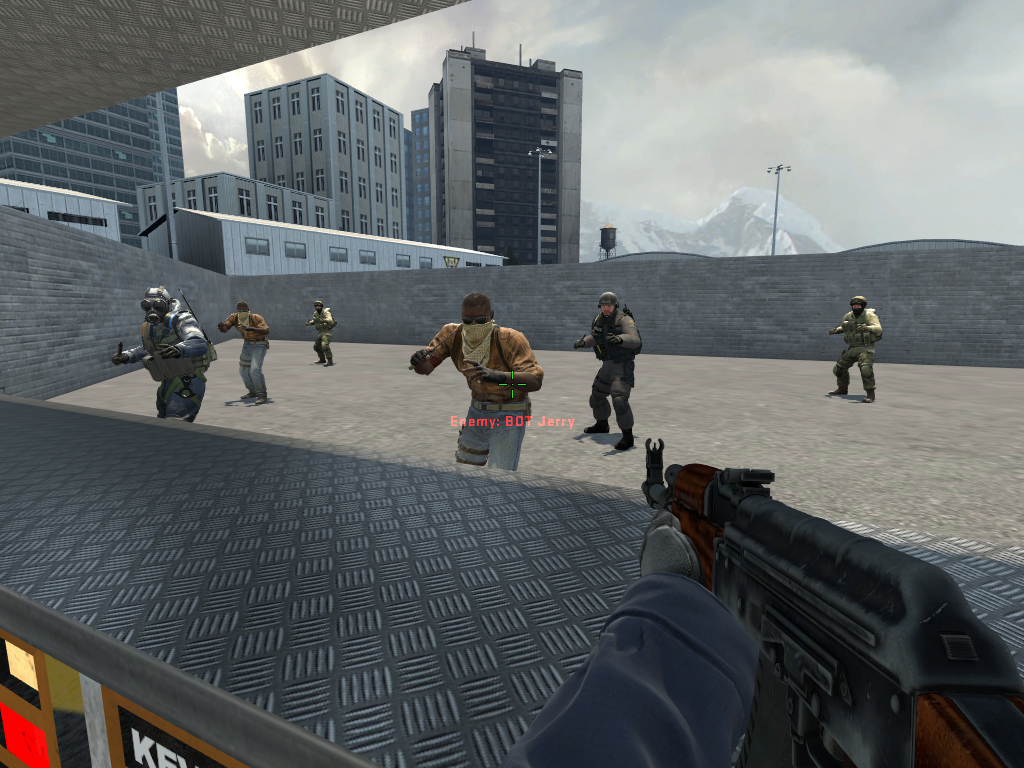ct head: (135, 286, 176, 326), (595, 290, 623, 320), (844, 294, 870, 318), (310, 299, 326, 315)
tr head: (454, 290, 500, 344), (228, 300, 252, 325)
